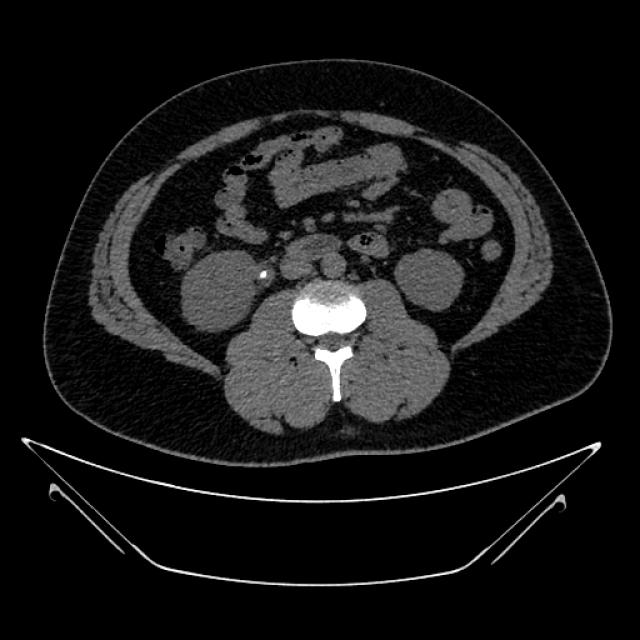kidneystone: (258, 265, 272, 279)
